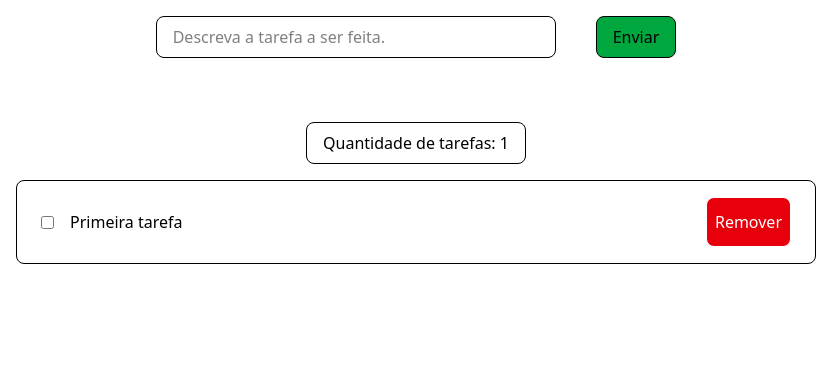
Scenario: Testa a adição de uma nova tarefa
The width and height of the screenshot is (833, 381).
# Necessário instalar uma nova dependencia (@testing-library/user-event), para simular as ações do usuário.
In the field with placeholder "Descreva a tarefa a ser feita.": (356, 37) [156, 16, 556, 58], type "Nova tarefa"
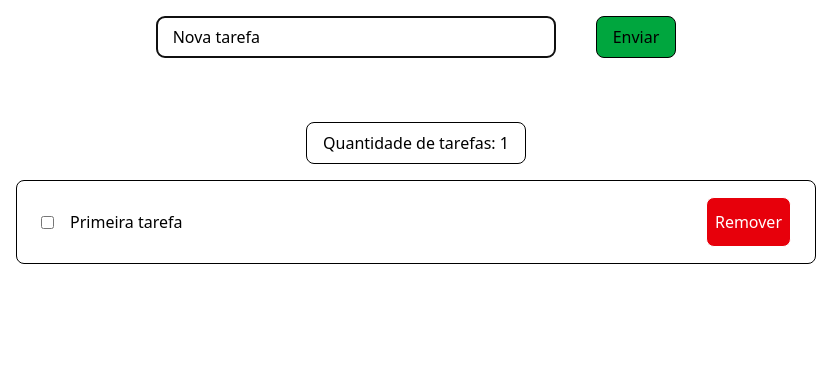
Click the button "Enviar": (636, 37) [596, 16, 676, 58]
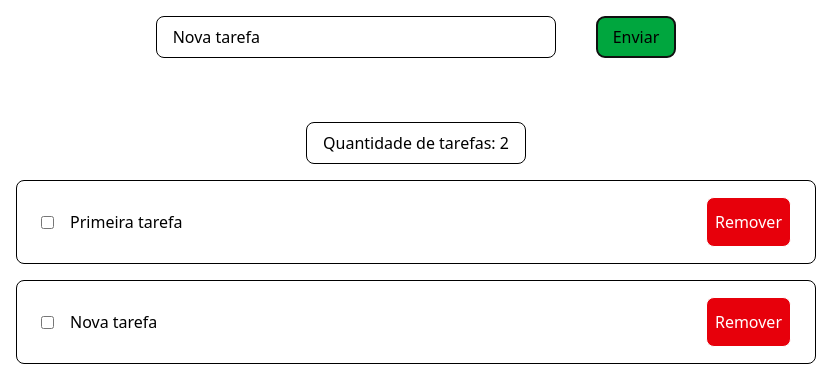
expect the text "Nova tarefa" is shown: met, box [70, 310, 157, 334]
